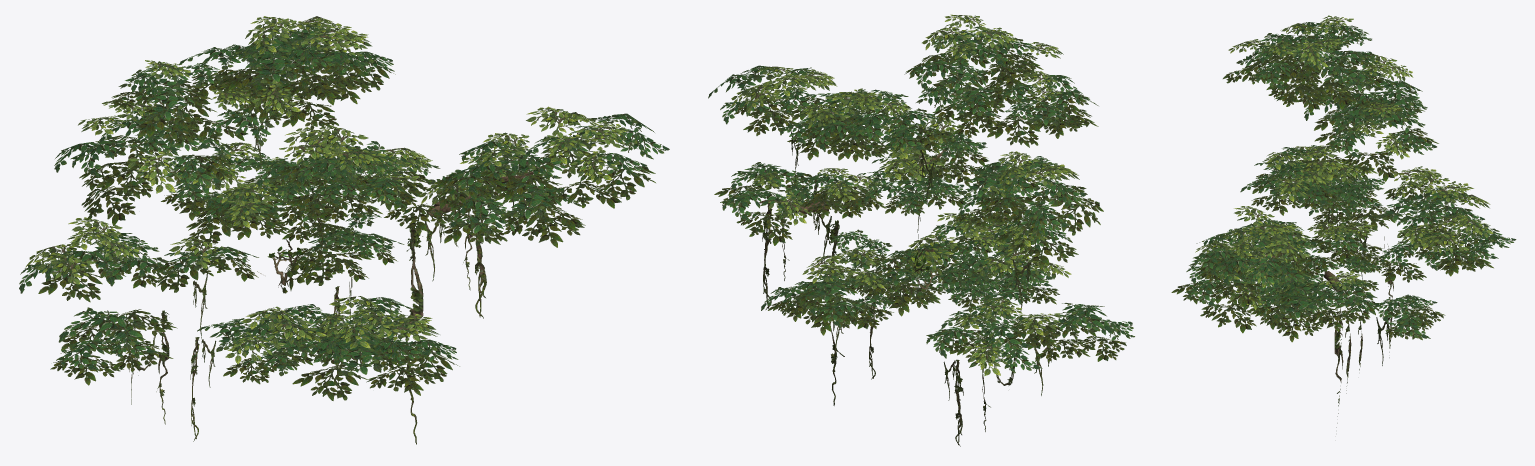
Rendered from jd_shuye_1.FBX.
3 renders of one model, left to right at view 1: azimuth 30°, elevation 25°; view 2: azimuth 150°, elevation 25°; view 3: azimuth 270°, elevation 25°, orthographic. The views are drawn at different scales.
Parts seen in each view (by area): view 1: jd_shuye_1; view 2: jd_shuye_1; view 3: jd_shuye_1.
Boxes of the visible parts, left/top/right/bottom form: jd_shuye_1: left=19, top=16, right=669, bottom=444; jd_shuye_1: left=708, top=14, right=1134, bottom=446; jd_shuye_1: left=1171, top=15, right=1516, bottom=427.
Bounding box in the file's own units: 907 × 742 × 660.
